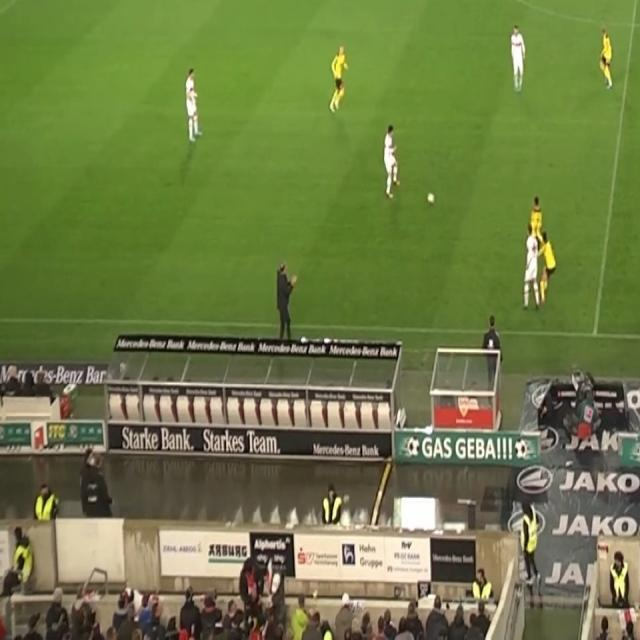ball: (427, 191, 435, 206)
